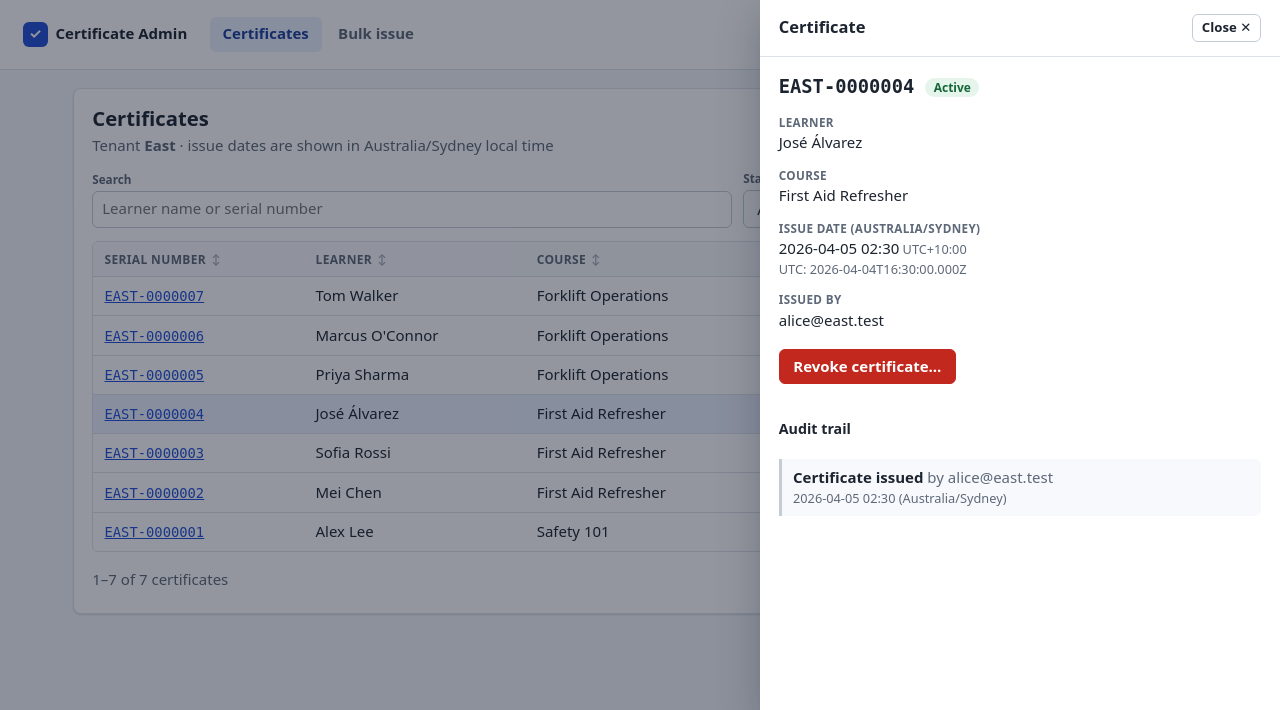
it: Under StrictMode › item E: a repeat while the outcome is unknown is one more POST, answered "already revoked"
Click the button with test id "revoke-button". click: {"x": 867, "y": 366}
box: [779,348,956,384]
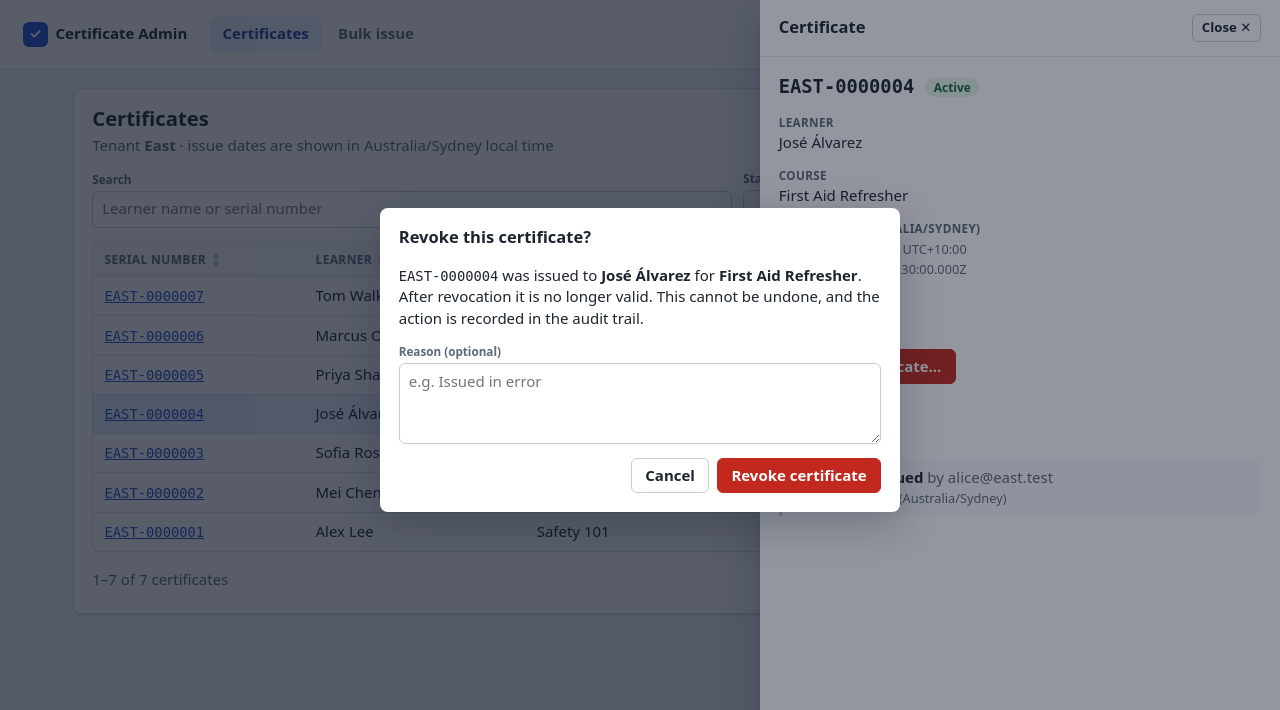
Click the button with test id "revoke-confirm". click: {"x": 799, "y": 475}
box: [717,458,881,493]
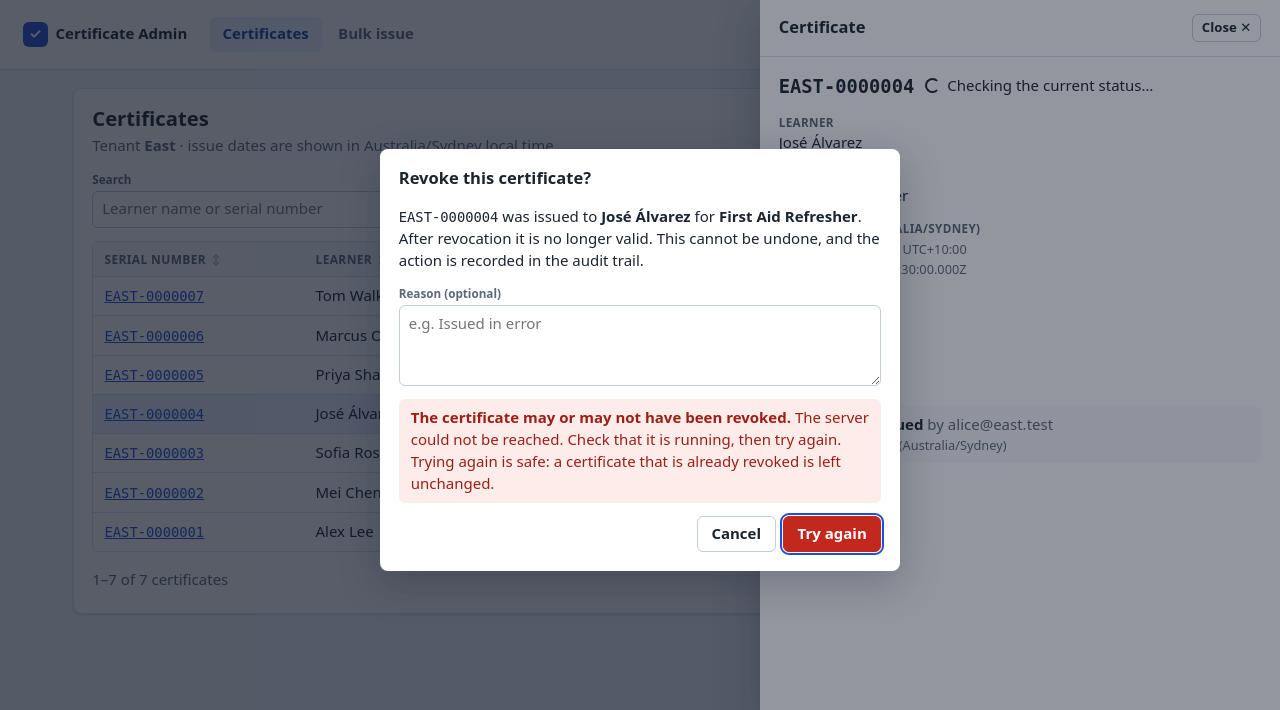
Expected: the message shows "Trying again is safe", [411,451,841,493]
Double-click the button with test id "revoke-confirm" at {"x": 832, "y": 534}, box [783,516,881,552]
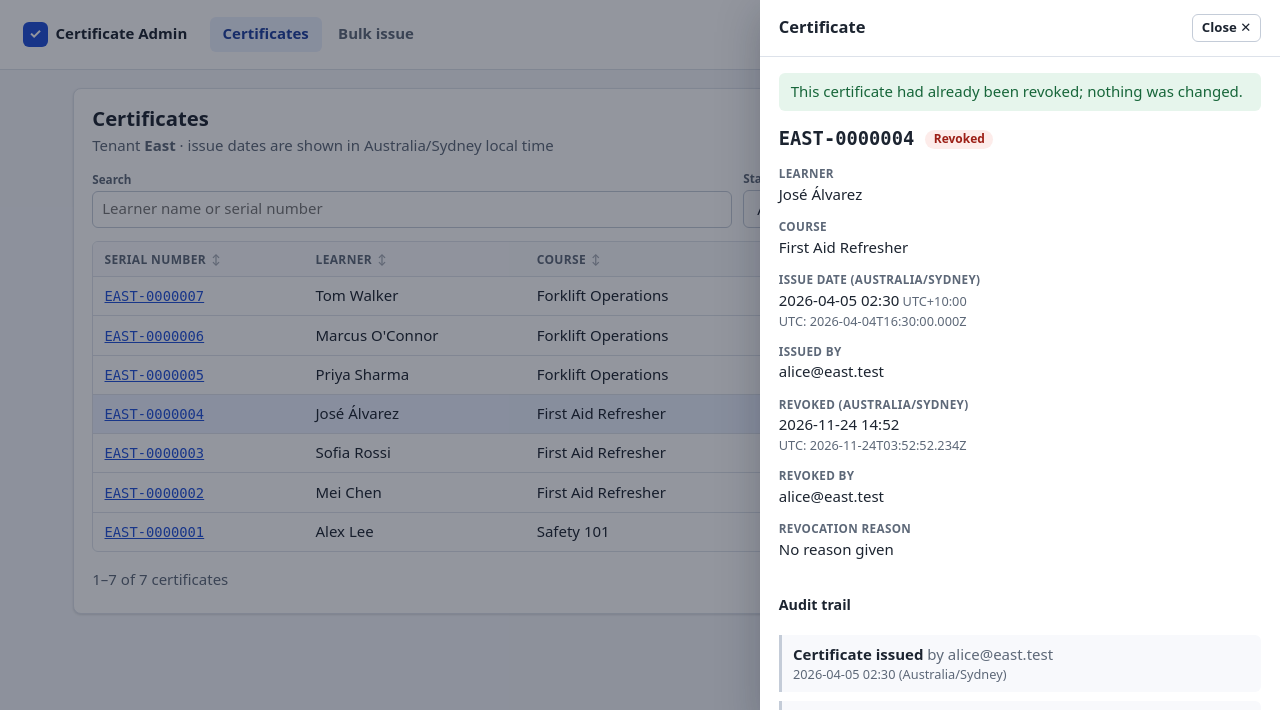
Expected: the message with test id "revoke-result" reads "This certificate had already been revoked; nothing was changed.", [791,81,1243,101]
Expected: the element with test id "detail-status" reads "Revoked", [934,130,985,148]
